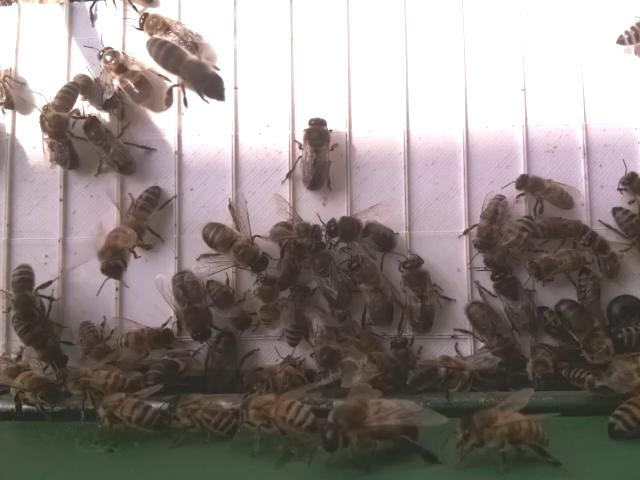Drone: (197, 220, 274, 277), (464, 299, 526, 367), (95, 43, 156, 110), (344, 253, 396, 331), (489, 265, 543, 340), (81, 111, 139, 177), (169, 267, 215, 344), (401, 253, 440, 339), (326, 214, 398, 255), (298, 113, 334, 194)
Worker: (207, 277, 257, 333), (122, 182, 167, 242), (512, 170, 577, 209), (44, 75, 84, 137), (470, 191, 508, 255), (114, 322, 177, 360), (282, 283, 311, 352), (8, 260, 38, 318)
